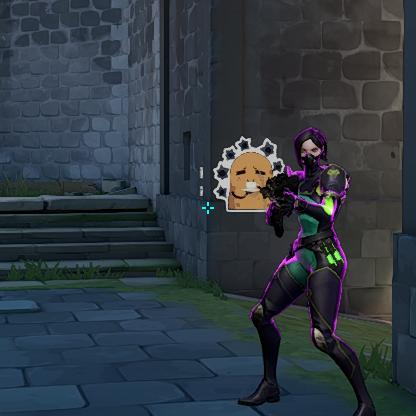enemyBody: (297, 171, 334, 256)
enemyHead: (299, 136, 322, 163)
